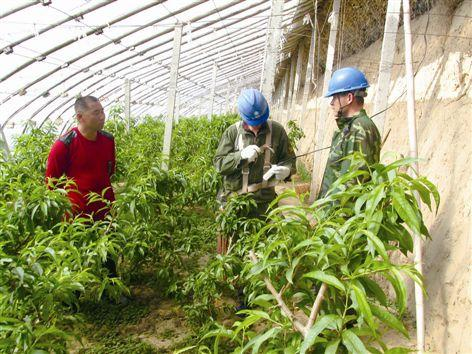helmet: (238, 88, 271, 126), (327, 68, 369, 97)
